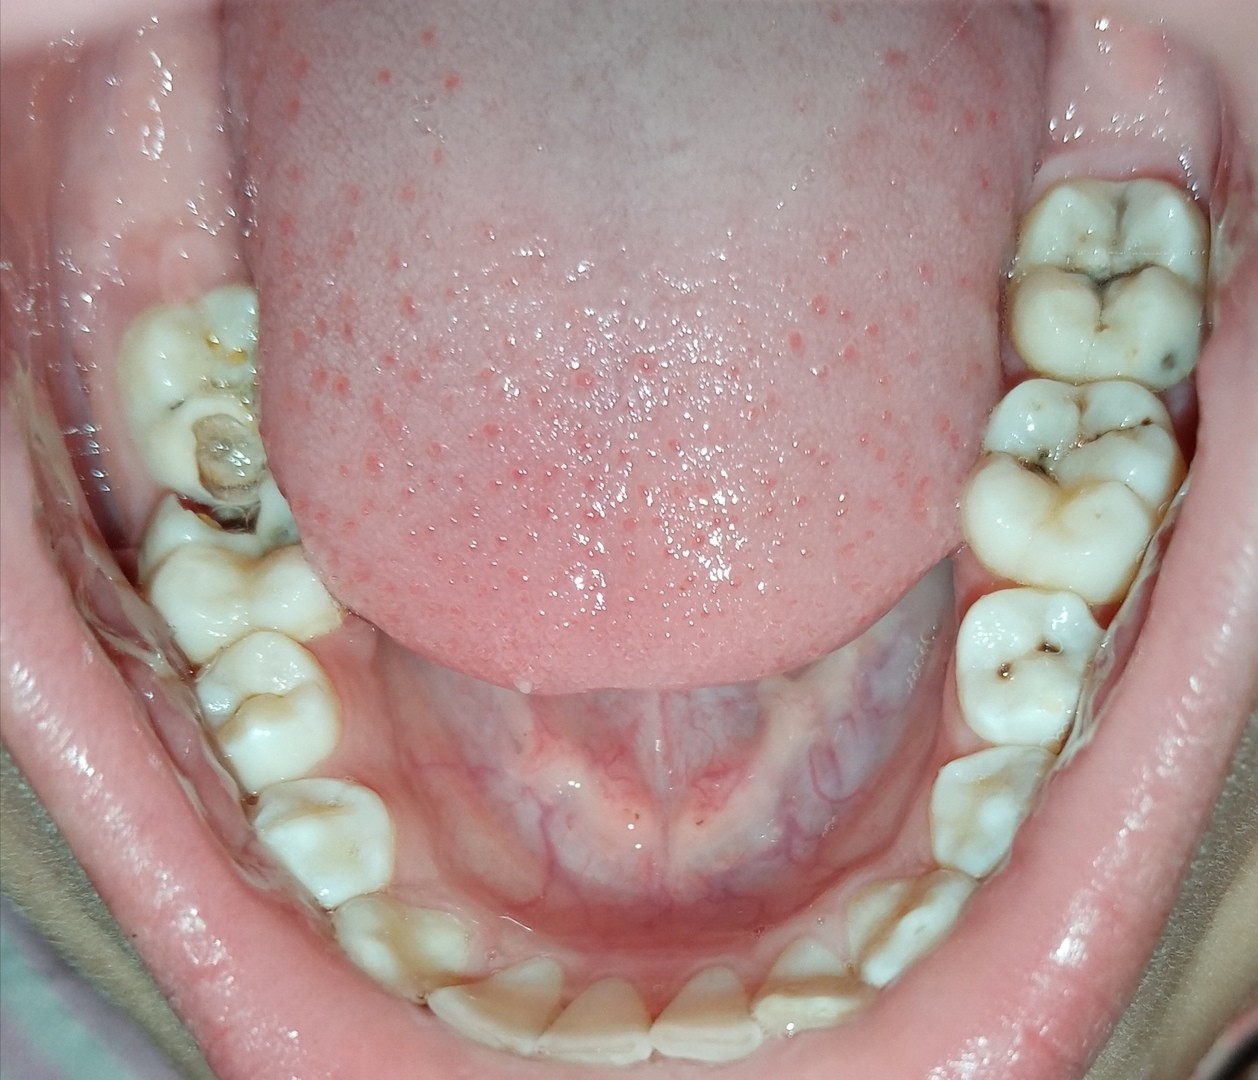LL1BC_healthy: (923, 750, 1050, 880)
LL1M_decay: (962, 376, 1184, 601)
LL2BC_decay: (947, 595, 1083, 738)
LL2M_decay: (1004, 183, 1203, 394)
LLCI_healthy: (650, 965, 764, 1067)
LLC_healthy: (844, 871, 975, 986)
LLLI_healthy: (745, 939, 876, 1042)
LR1BC_healthy: (249, 775, 397, 908)
LR1M_decay: (126, 492, 349, 648)
LR2BC_decay: (188, 626, 341, 786)
LR2M_decay: (108, 289, 288, 499)
LRCI_healthy: (537, 976, 653, 1075)
LRC_healthy: (335, 901, 481, 1008)
LRLI_healthy: (424, 955, 573, 1050)
